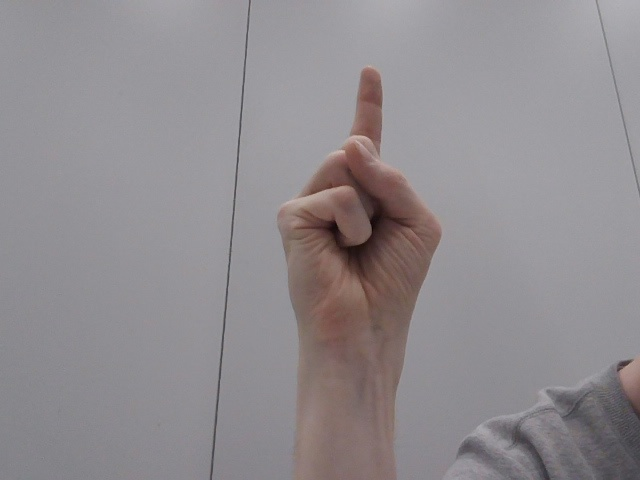up: (265, 59, 452, 388)
